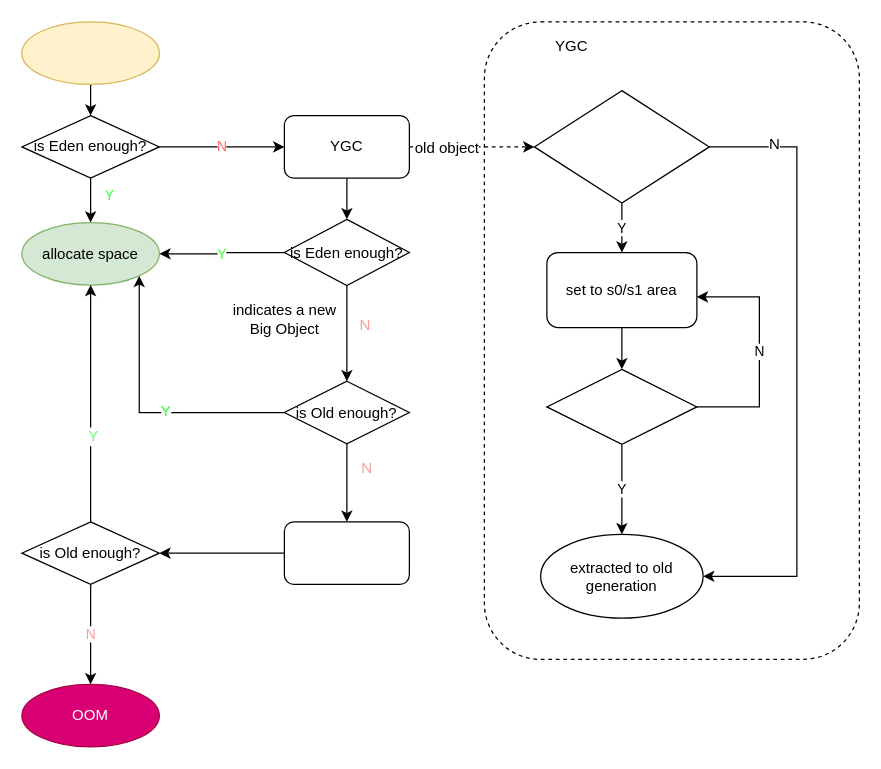
The diagram is 881 pixels wide and 769 high, and some of its shapes have lost their labels. The shapes that lost their labels are listed below. From the top down, each one's centre as x and y in pixels, then its label:
point (90, 52): new Object()
point (621, 146): is survivor enough?
point (621, 406): over threshhold of survivor
point (346, 552): FGC
